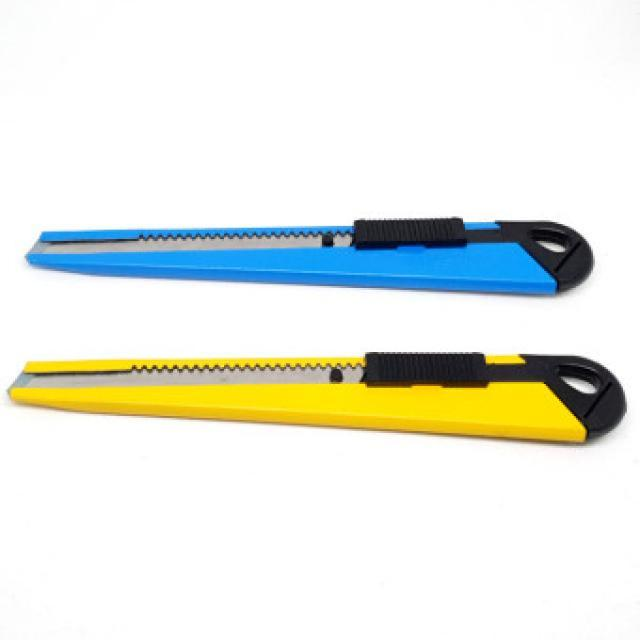cutter: (0, 339, 631, 457), (19, 204, 605, 306)
